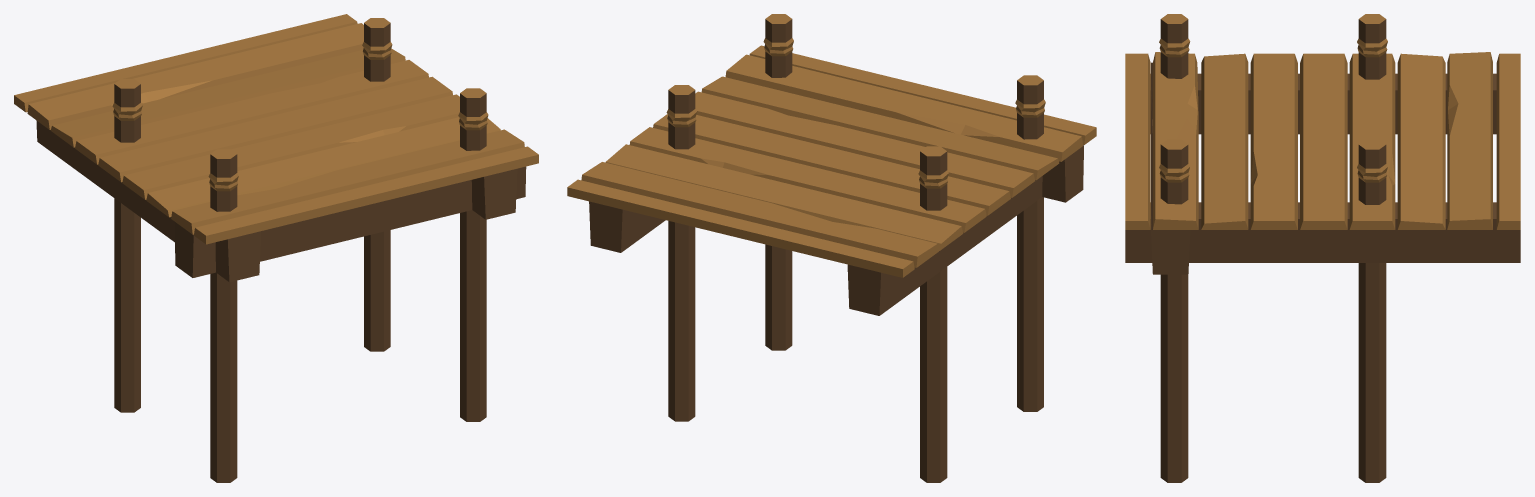
File: props_pier-tile-straight.fbx
3 renders of one model, left to right at view 1: azimuth 30°, elevation 25°; view 2: azimuth 150°, elevation 25°; view 3: azimuth 270°, elevation 25°, orthographic. The views are drawn at different scales.
Visible parts, largest first — view 1: props_pier_tile_straight; view 2: props_pier_tile_straight; view 3: props_pier_tile_straight.
Boxes of the visible parts, x1=… form: props_pier_tile_straight: x1=14, y1=14, x2=538, y2=482; props_pier_tile_straight: x1=567, y1=14, x2=1096, y2=482; props_pier_tile_straight: x1=1125, y1=14, x2=1520, y2=482.
Bounding box in the file's own units: 200 × 186 × 200.
